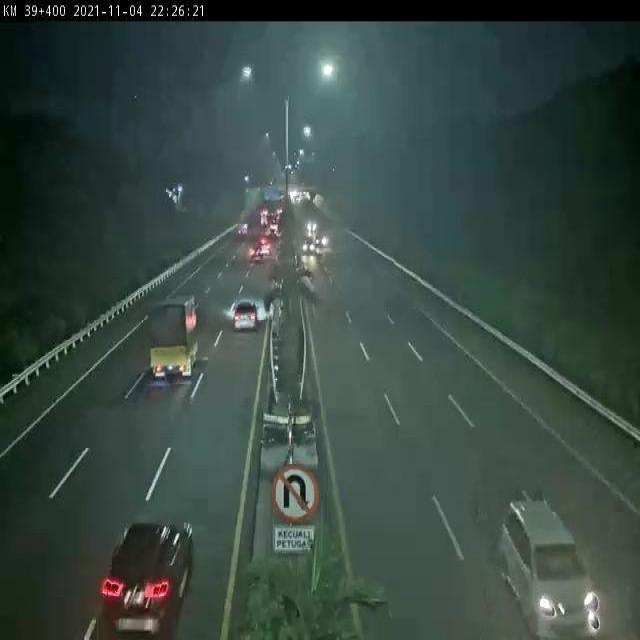car: (500, 497, 600, 640), (103, 522, 192, 634), (234, 300, 258, 331)
truck-m-: (145, 296, 200, 379)
